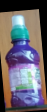blueberries: (6, 14, 44, 108)
